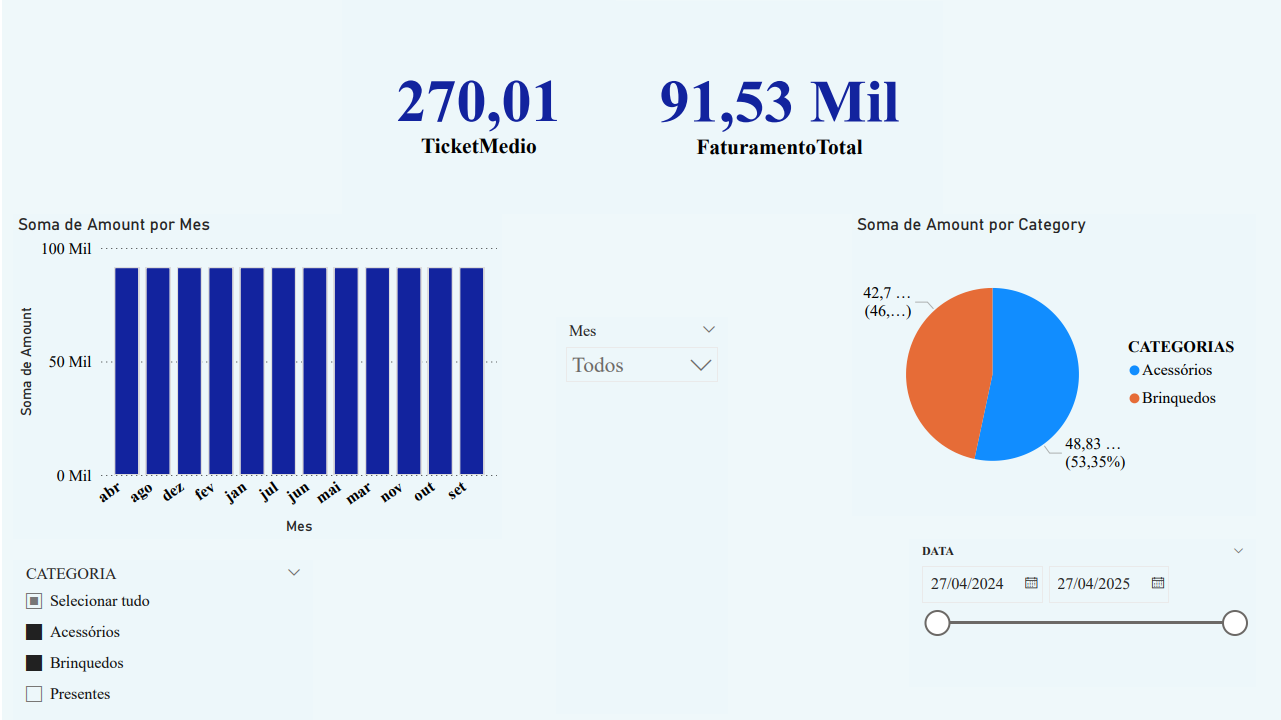

Layout of this report page (visuals, bound fields, positions):
{"tool":"powerbi","page":{"name":"Página 1","canvas":[1280,720],"ordinal":0},"visuals":[{"type":"card","fields":{"Values":["Calendario.TicketMedio"]},"box":[340,0,274.3,214.3],"z":0},{"type":"card","fields":{"Values":["vendas_dashboard vendas.FaturamentoTotal"]},"box":[614.3,1.4,327.1,212.9],"z":1000},{"type":"clusteredColumnChart","fields":{"Category":["Calendario.Mes"],"Y":["Sum(vendas_dashboard vendas.Amount)"]},"box":[11.4,214.3,488.6,324.3],"z":2000},{"type":"pieChart","fields":{"Category":["vendas_dashboard vendas.Category"],"Y":["Sum(vendas_dashboard vendas.Amount)"]},"box":[850,214.3,404.3,301.4],"z":3000},{"type":"slicer","fields":{"Values":["Calendario.Mes"]},"box":[554.3,317.1,171.4,397.1],"z":4000},{"type":"slicer","fields":{"Values":["vendas_dashboard vendas.Category"]},"box":[11.4,560,300,160],"z":5000},{"type":"slicer","fields":{"Values":["Calendario.Date"]},"box":[907.1,538.6,347.1,148.6],"z":6000}]}

Visuals, with their boxes in screenshot pixels (x1, y1, x2, y2), scaled from the page's 1280x720 canvas onto the 1281x720 screenshot:
card - Calendario.TicketMedio: [left=340, top=0, right=615, bottom=214]
card - vendas_dashboard vendas.FaturamentoTotal: [left=615, top=1, right=942, bottom=214]
clusteredColumnChart - Calendario.Mes x Sum(vendas_dashboard vendas.Amount): [left=11, top=214, right=500, bottom=539]
pieChart - vendas_dashboard vendas.Category x Sum(vendas_dashboard vendas.Amount): [left=851, top=214, right=1255, bottom=516]
slicer - Calendario.Mes: [left=555, top=317, right=726, bottom=714]
slicer - vendas_dashboard vendas.Category: [left=11, top=560, right=312, bottom=719]
slicer - Calendario.Date: [left=908, top=539, right=1255, bottom=687]
